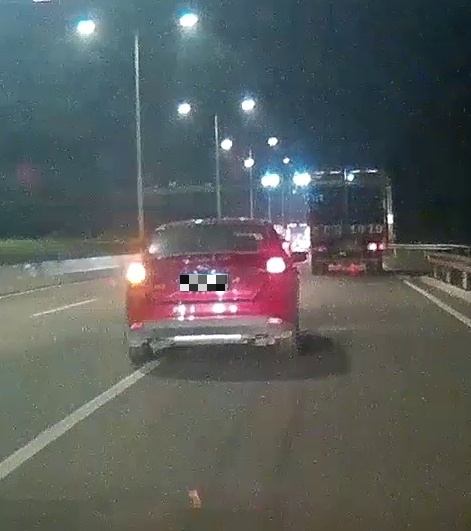L_light: (125, 262, 147, 284)
R_light: (264, 256, 286, 273)
T_light: (201, 224, 224, 228)
night-left: (124, 218, 291, 365)
plate_1: (180, 275, 227, 291)
